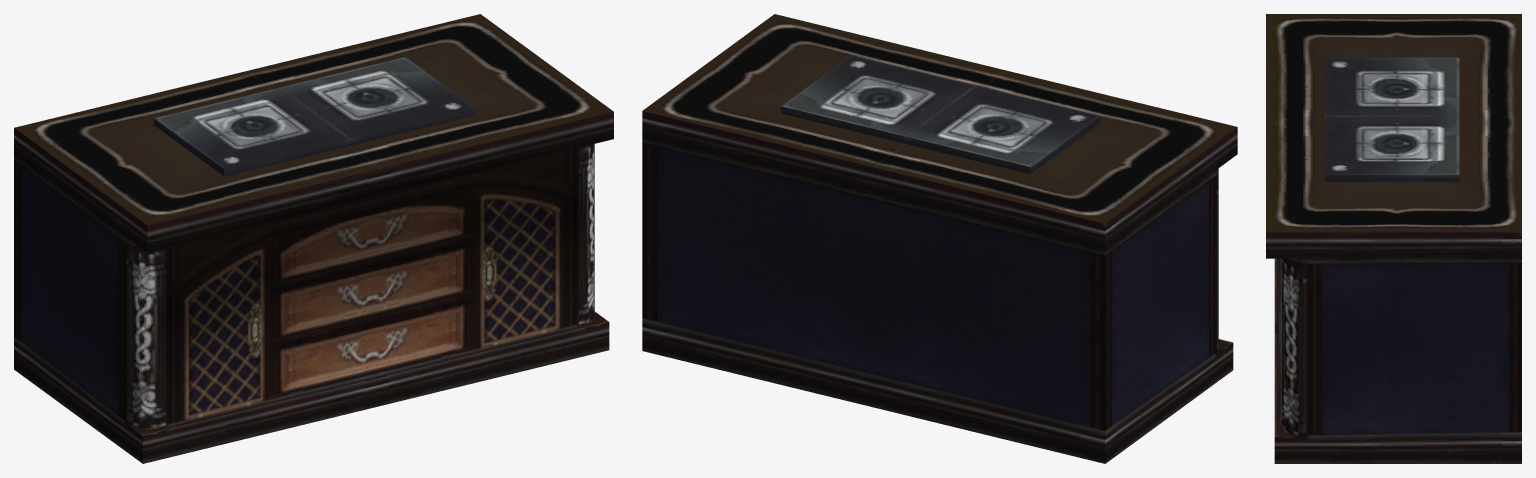
Rendered from furni_0201224.FBX.
3 renders of one model, left to right at view 1: azimuth 30°, elevation 25°; view 2: azimuth 150°, elevation 25°; view 3: azimuth 270°, elevation 25°, orthographic. The views are drawn at different scales.
Parts seen in each view (by area): view 1: furni_0201224; view 2: furni_0201224; view 3: furni_0201224.
Part boxes in pixels (x1,y1,x2,y2): furni_0201224: (14, 14, 613, 463); furni_0201224: (642, 14, 1237, 463); furni_0201224: (1266, 14, 1521, 463).
Bounding box in the file's own units: 161 × 82.34 × 80.
1 material, 1 textured.
